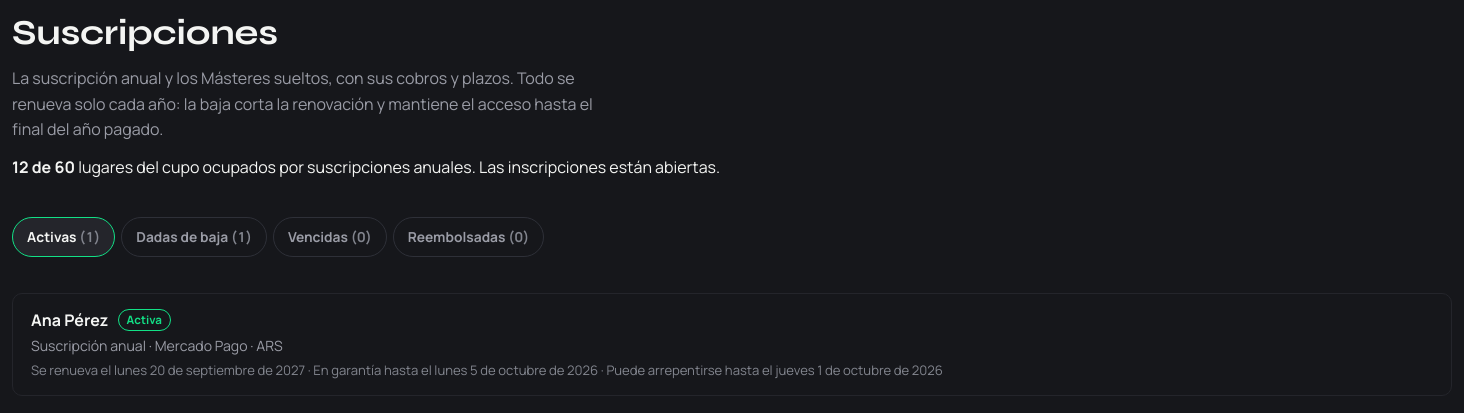
Scenario: SubscriptionsPage › lista por estado y muestra el cupo
The width and height of the screenshot is (1464, 413).
Check: the text "Ana Pérez" is shown, box x1=31 y1=309 x2=108 y2=331
Check: the text "12 de 60" is shown, box x1=12 y1=156 x2=75 y2=178
Click the button "Dadas de baja (1)" at (194, 237), box x1=121 y1=217 x2=267 y2=257
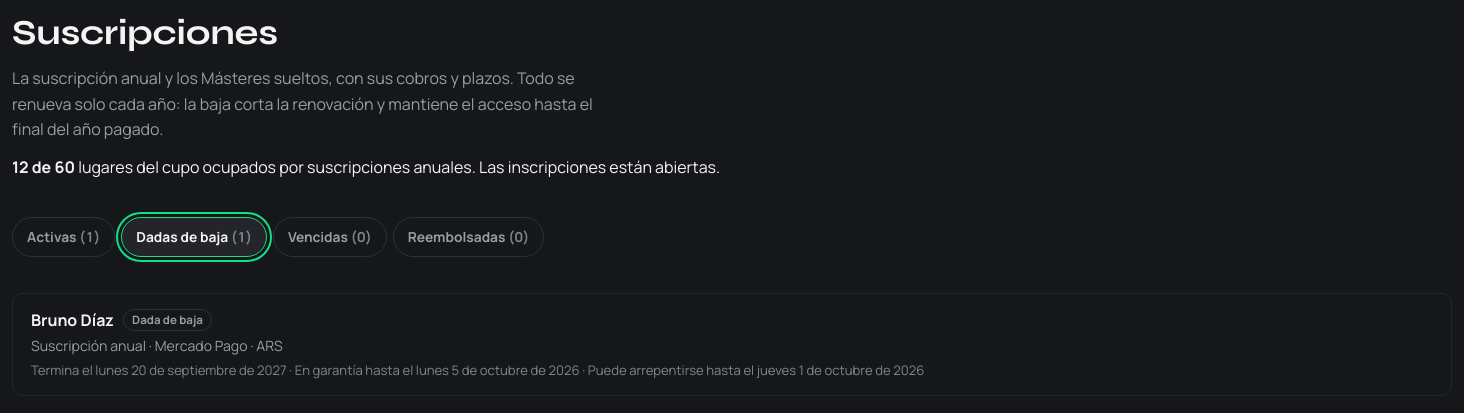
Check: the text "Bruno Díaz" is shown, box x1=31 y1=309 x2=114 y2=331
